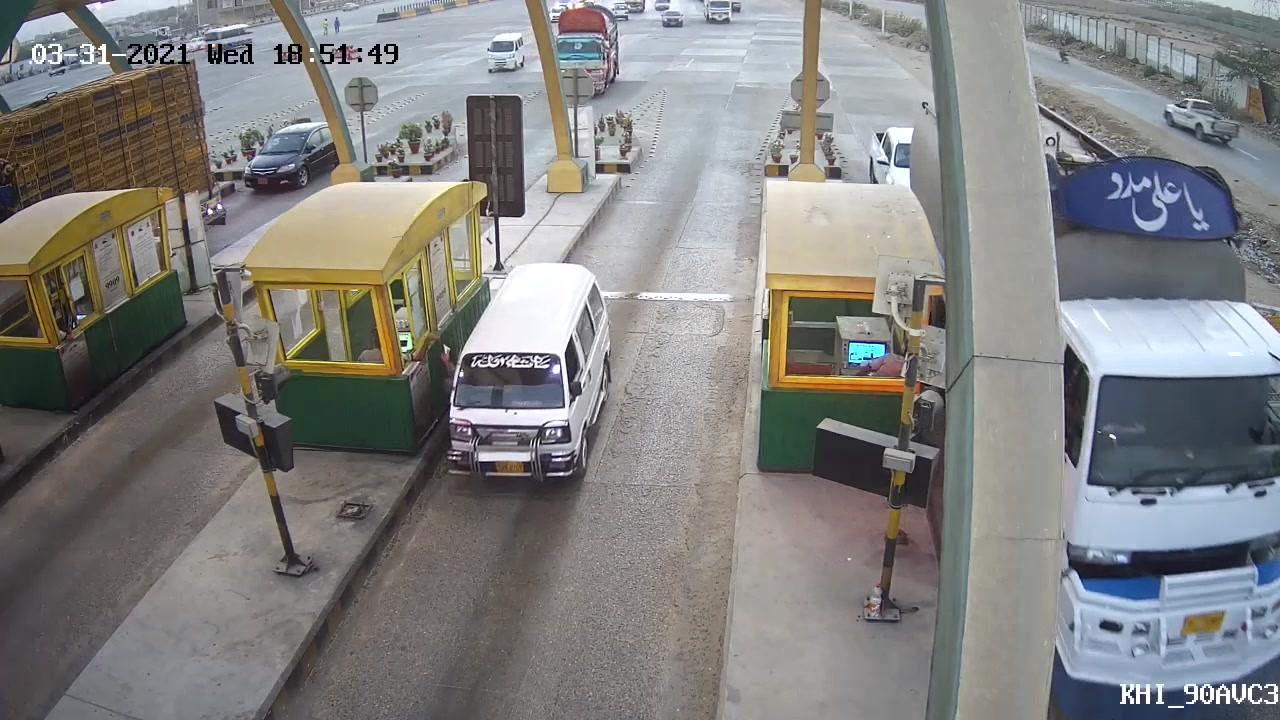F2: (445, 266, 616, 484)
